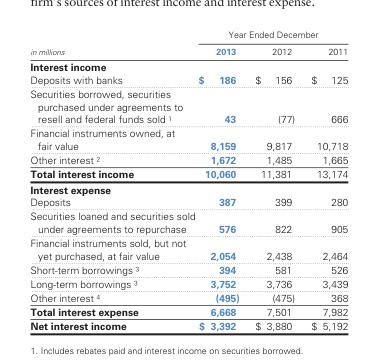table: (29, 28, 347, 331)
table column: (29, 28, 196, 331), (246, 28, 302, 331), (196, 28, 246, 331), (302, 28, 347, 331)
table column header: (29, 28, 347, 58)
table projected row header: (29, 58, 347, 72), (29, 181, 347, 195)
table row: (29, 86, 347, 125), (29, 125, 347, 152), (29, 208, 347, 235), (29, 235, 347, 262), (29, 42, 347, 58), (29, 166, 347, 181), (29, 28, 347, 42), (29, 58, 347, 72), (29, 72, 347, 86), (29, 152, 347, 166), (29, 181, 347, 195), (29, 262, 347, 276), (29, 276, 347, 290), (29, 290, 347, 304), (29, 304, 347, 318), (29, 195, 347, 208), (29, 318, 347, 331)
table spanning cell: (29, 28, 196, 58), (196, 28, 347, 42)
